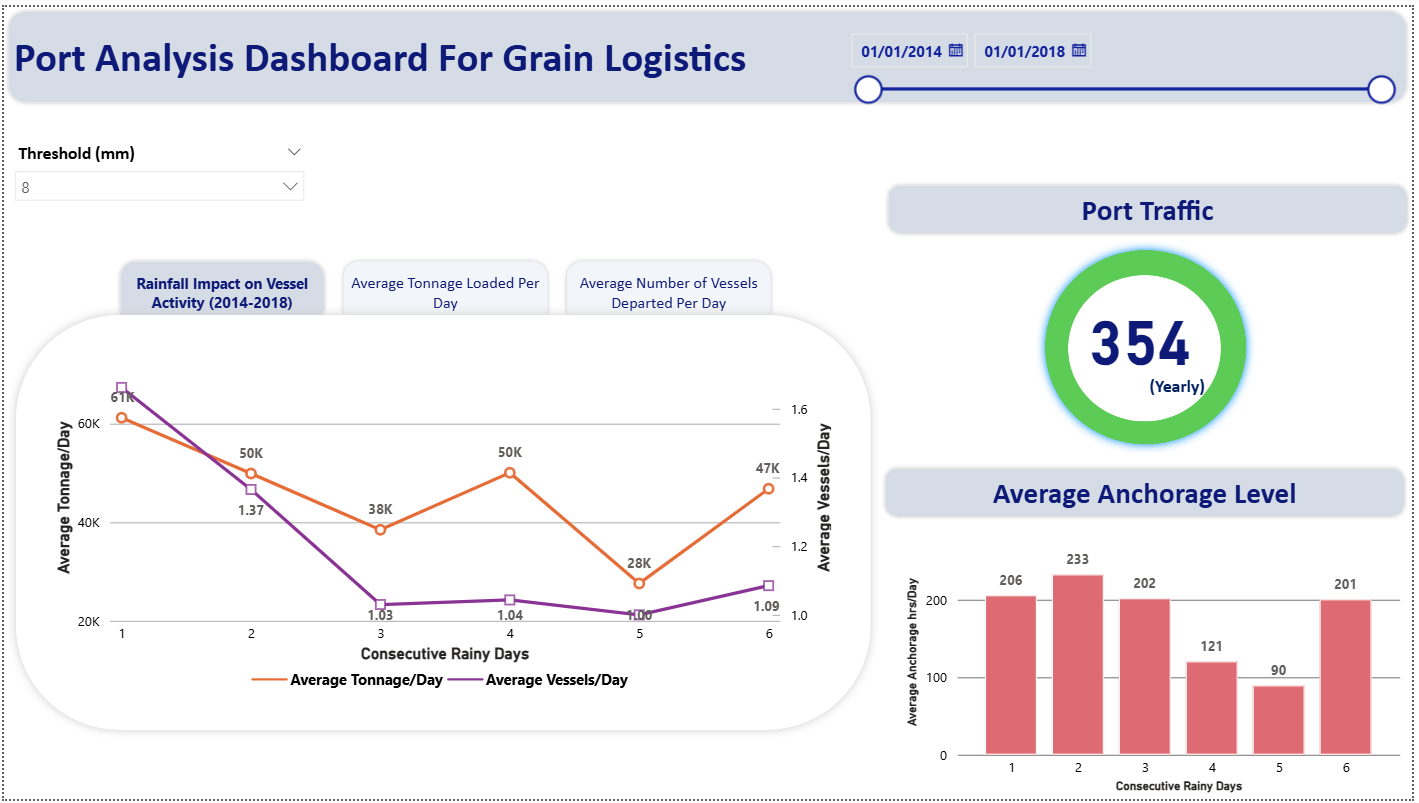

The dashboard page shown, as its layout file describes it:
{"tool":"powerbi","page":{"name":"Overview","canvas":[1280,720],"ordinal":0},"visuals":[{"type":"shape","box":[937.9,213.1,199.3,193.2],"z":0,"group":"g3"},{"type":"card","fields":{"Values":["Avg(Vessel_count.num_vessels)"]},"box":[940.7,216.8,183.8,164.2],"z":0,"group":"g5"},{"type":"bookmarkNavigator","box":[101.8,227.2,599.5,65.8],"z":0},{"type":"group","id":"g1","title":"Group 3","box":[937.9,213.1,199.8,193.6],"z":1000,"group":"g4"},{"type":"shape","box":[967.3,244.4,139.1,133.3],"z":1000,"group":"g3"},{"type":"shape","box":[2.5,271.8,793.2,393.5],"z":1000},{"type":"textbox","box":[1036.2,330.3,77.6,37.4],"z":1000,"group":"g5"},{"type":"actionButton","box":[0,0,100,40],"z":2000},{"type":"slicer","fields":{"Values":["Data.Threshold (mm)"]},"box":[0,117.9,283,65.8],"z":3000},{"type":"lineChart","fields":{"Category":["Data.consecutive_days"],"Y":["Avg(Data.avg_tonnage_per_day)"],"Y2":["Avg(Data.avg_vessels_per_day)"]},"box":[41,320.3,716.2,310.3],"z":4000},{"type":"shape","box":[0,0,1279.1,90.9],"z":5000},{"type":"clusteredColumnChart","title":"Average Anchorage Level","fields":{"Category":["Data.consecutive_days"],"Y":["Avg(Data.avg_anchor_hrs_per_day)"]},"box":[815.3,479.4,458.6,239.7],"z":5000,"group":"g2"},{"type":"group","id":"g2","title":"Group 5","box":[815.3,479.4,458.6,239.7],"z":6000},{"type":"group","id":"g3","title":"Group 1","box":[937.9,213.1,199.3,193.2],"z":7000,"group":"g1"},{"type":"shape","box":[797.3,415.8,479.4,51.4],"z":7000},{"type":"group","id":"g4","title":"Group 4","box":[937.9,213.1,199.8,193.6],"z":8000},{"type":"group","id":"g5","title":"Group 2","box":[940.7,216.8,183.8,164.2],"z":8000,"group":"g1"},{"type":"shape","box":[799.7,157.7,479.4,51.4],"z":9000},{"type":"slicer","fields":{"Values":["Data.Date"]},"box":[756.9,0,516,90.5],"z":10000}]}

Visuals, with their boxes in screenshot pixels (x1, y1, x2, y2), scaled from the page's 1280x720 canvas onto the 1419x803 screenshot:
shape: box(1040, 238, 1261, 453)
card - Avg(Vessel_count.num_vessels): box(1043, 242, 1247, 425)
bookmarkNavigator: box(113, 253, 777, 327)
"Group 3" group: box(1040, 238, 1261, 454)
shape: box(1072, 273, 1227, 421)
shape: box(3, 303, 882, 742)
textbox: box(1149, 368, 1235, 410)
actionButton: box(0, 0, 111, 45)
slicer - Data.Threshold (mm): box(0, 131, 314, 205)
lineChart - Data.consecutive_days x Avg(Data.avg_tonnage_per_day): box(45, 357, 839, 703)
shape: box(0, 0, 1418, 101)
"Average Anchorage Level" clusteredColumnChart: box(904, 535, 1412, 802)
"Group 5" group: box(904, 535, 1412, 802)
"Group 1" group: box(1040, 238, 1261, 453)
shape: box(884, 464, 1415, 521)
"Group 4" group: box(1040, 238, 1261, 454)
"Group 2" group: box(1043, 242, 1247, 425)
shape: box(887, 176, 1418, 233)
slicer - Data.Date: box(839, 0, 1411, 101)
